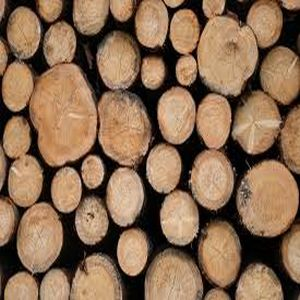log: (27, 61, 101, 167), (236, 157, 299, 239), (196, 15, 257, 96), (94, 90, 152, 171), (14, 197, 66, 275), (195, 218, 242, 290), (230, 92, 281, 158), (143, 247, 205, 300), (188, 148, 235, 211), (95, 30, 141, 93), (155, 84, 197, 147), (70, 253, 122, 300), (259, 46, 300, 105), (106, 166, 145, 228), (157, 190, 200, 246), (143, 141, 184, 198), (195, 90, 232, 152), (7, 155, 44, 209), (74, 195, 110, 249), (7, 6, 41, 61), (246, 1, 283, 50), (134, 1, 170, 51), (42, 21, 80, 68), (2, 60, 34, 114), (115, 227, 150, 276), (168, 10, 202, 58), (50, 166, 82, 213), (72, 1, 110, 35), (3, 116, 31, 161), (38, 268, 73, 300), (140, 54, 168, 93), (173, 53, 201, 87), (80, 155, 106, 190), (5, 272, 35, 300), (109, 1, 135, 22), (36, 1, 63, 20), (200, 1, 228, 17)
